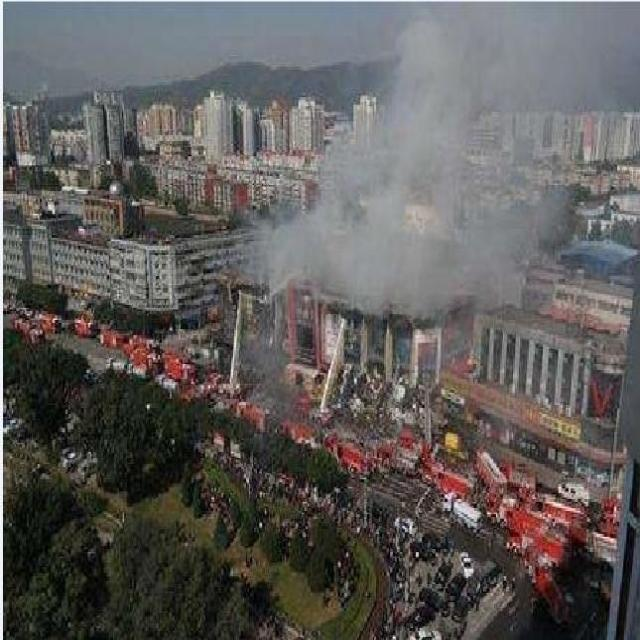Smoke: (236, 1, 640, 324)
